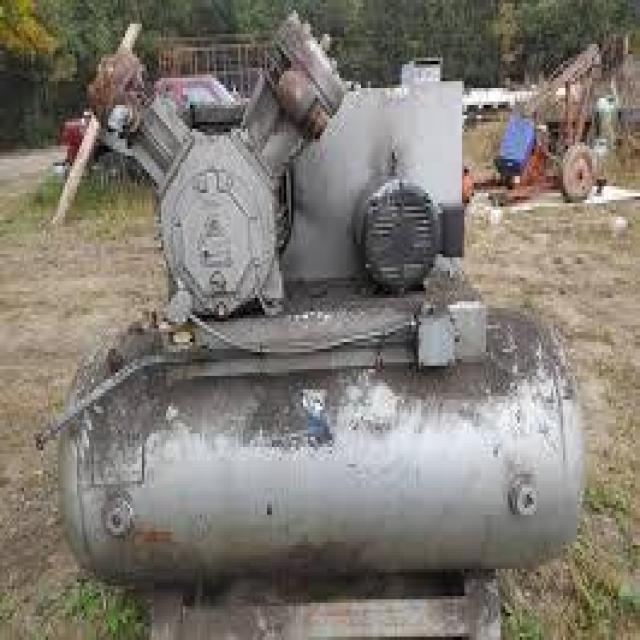compressor: (36, 10, 587, 593)
